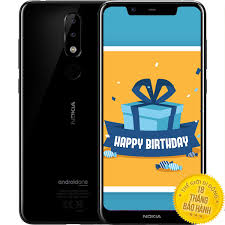nokia: (97, 1, 209, 225), (17, 1, 101, 222)
